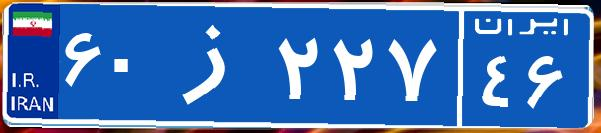0: (110, 28, 158, 105)
2: (273, 28, 330, 110), (330, 28, 385, 110)
4: (475, 38, 525, 113)
6: (57, 26, 110, 107), (525, 38, 570, 115)
7: (385, 28, 445, 110)
ز: (158, 15, 273, 115)
